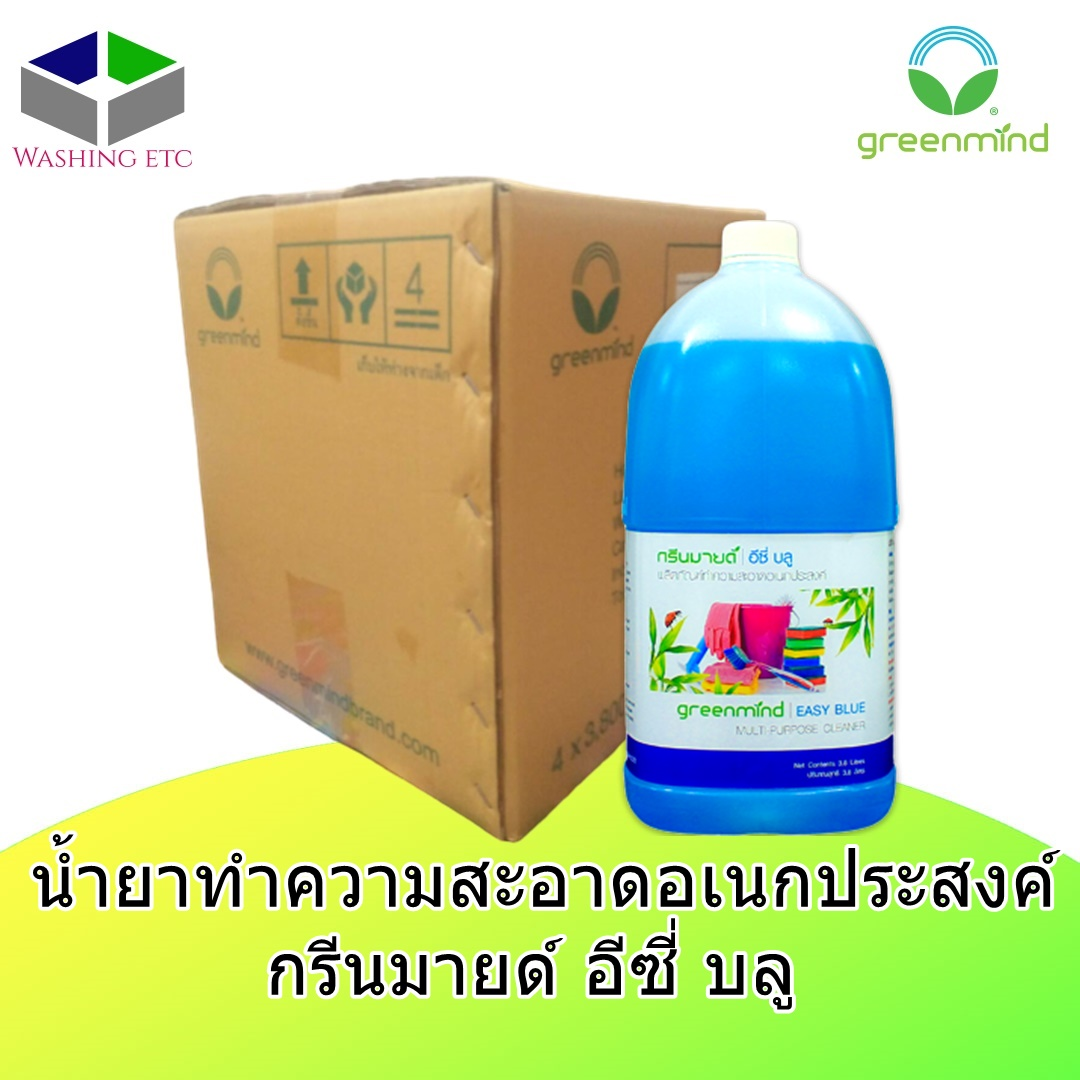Cleaning_solution: (615, 212, 909, 840)
